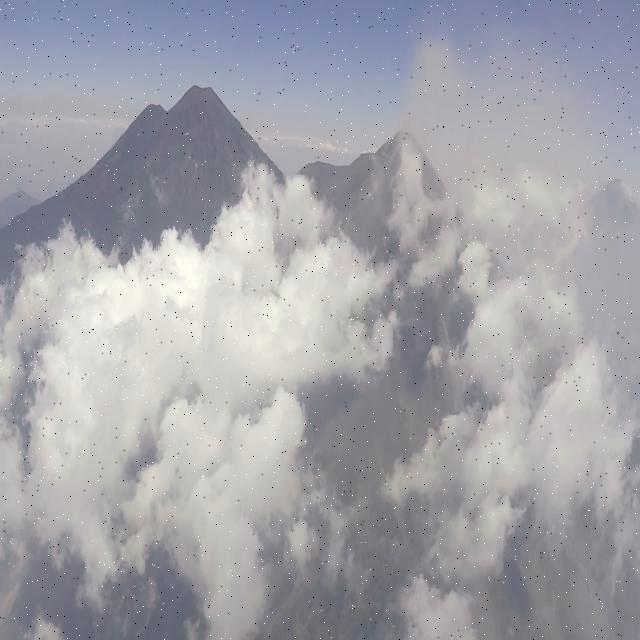Summit: (353, 122, 432, 180)
